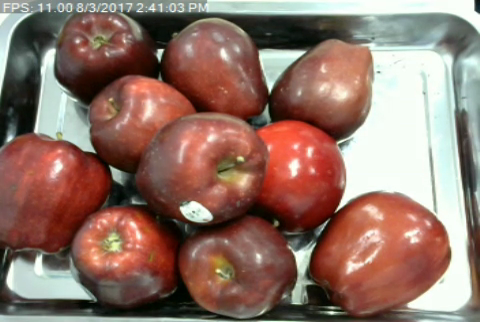Apple: (305, 186, 456, 322), (0, 128, 113, 257), (139, 109, 264, 225), (176, 213, 300, 322), (69, 201, 184, 311), (159, 15, 270, 126), (248, 117, 350, 237), (83, 70, 197, 176), (52, 6, 159, 109), (267, 37, 376, 137)
